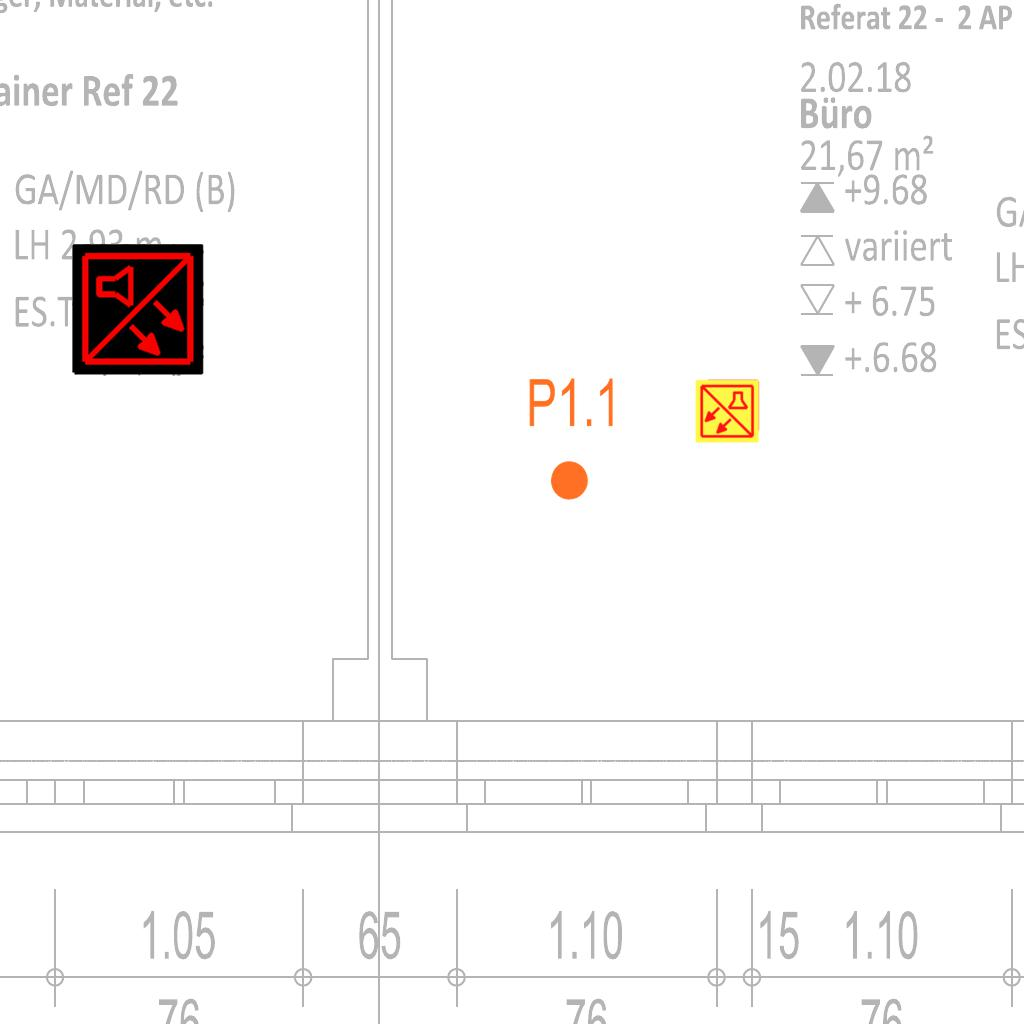Downlight_LED_Einbauleuchten_Flur: (526, 375, 619, 503)
OKW_Multisensormelder_(Kombination_optischer_Rauch-Kahlenmonoxid_Waerme-Melder): (72, 244, 204, 376), (694, 378, 760, 444)
